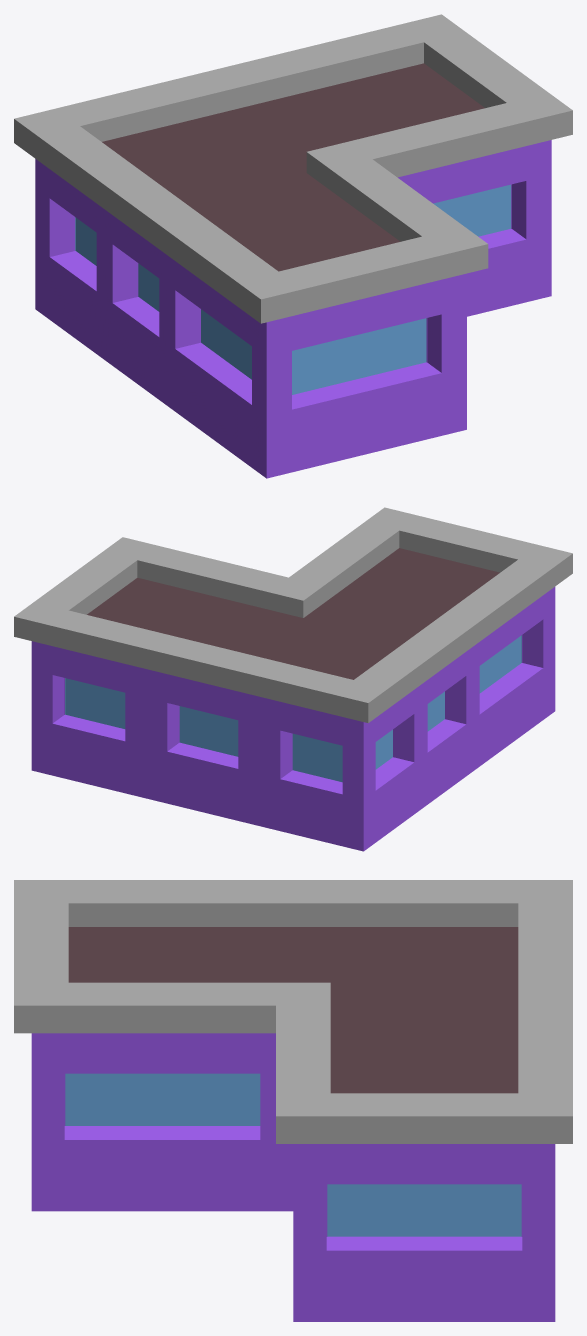
File: building_L_3_r.glb
3 renders of one model, top to bottom at view 1: azimuth 30°, elevation 25°; view 2: azimuth 150°, elevation 25°; view 3: azimuth 270°, elevation 25°, orthographic. The views are drawn at different scales.
Parts seen in each view (by area): view 1: Cube.002; view 2: Cube.002; view 3: Cube.002.
Boxes of the visible parts, <box> form: Cube.002: <box>14,14,572,478</box>; Cube.002: <box>14,507,572,851</box>; Cube.002: <box>14,880,572,1321</box>.
Bounding box in the file's own units: 3.89 × 1.63 × 3.89.
